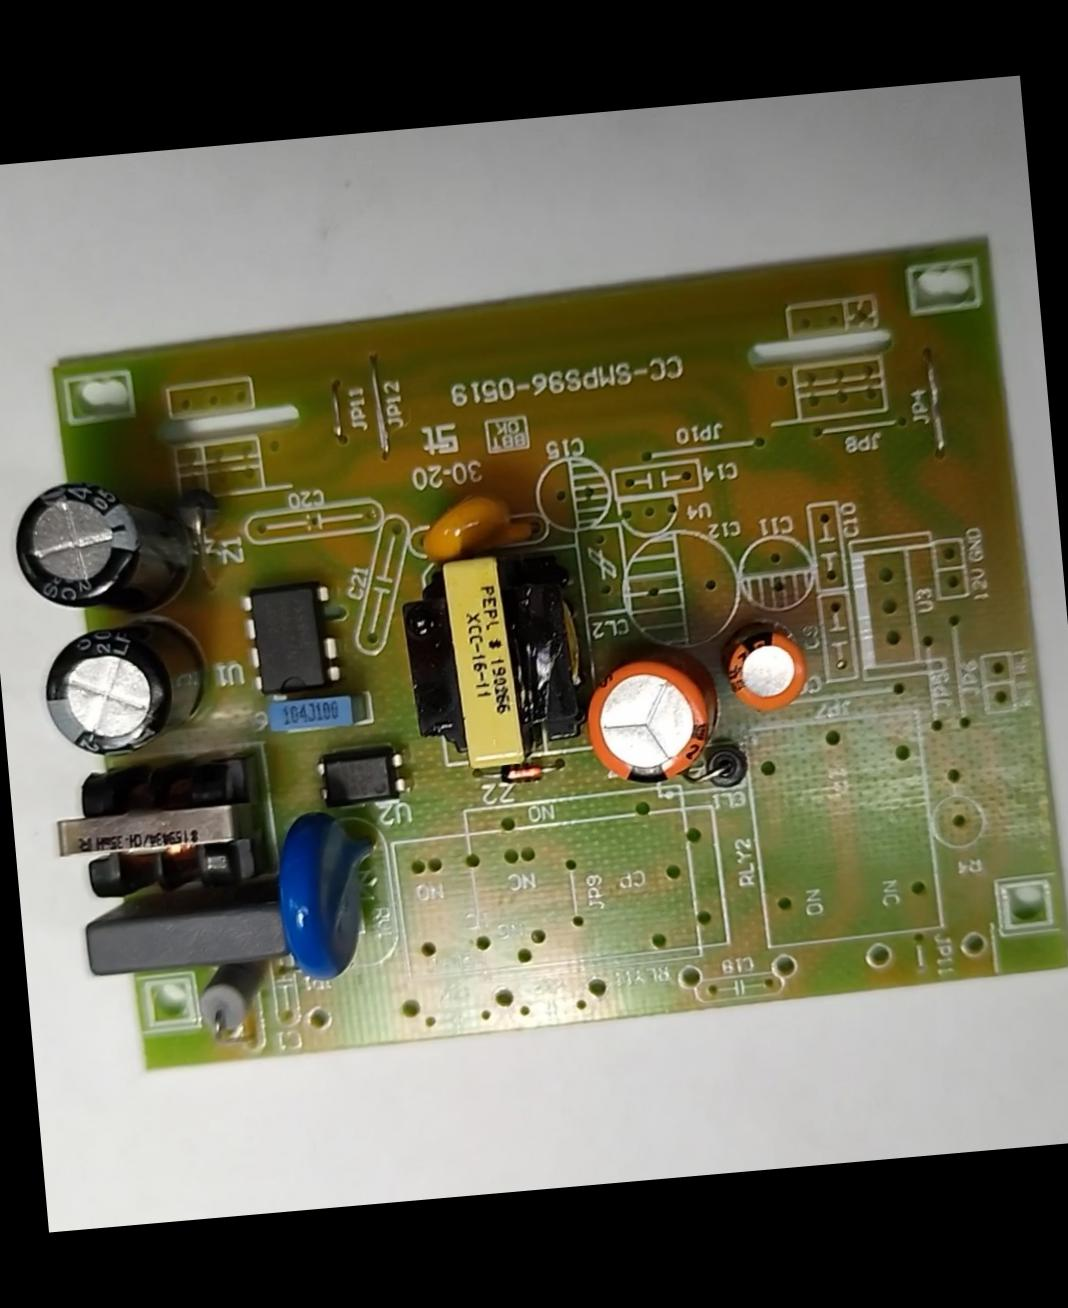Cap1: (578, 646, 720, 790)
Cap2: (718, 622, 808, 713)
Cap3: (36, 608, 216, 763)
Cap4: (8, 476, 194, 625)
MOSFET: (241, 580, 343, 697)
Mov: (269, 800, 390, 989)
Resistor: (190, 958, 271, 1039)
Transformer: (393, 544, 588, 768), (47, 752, 271, 907)
